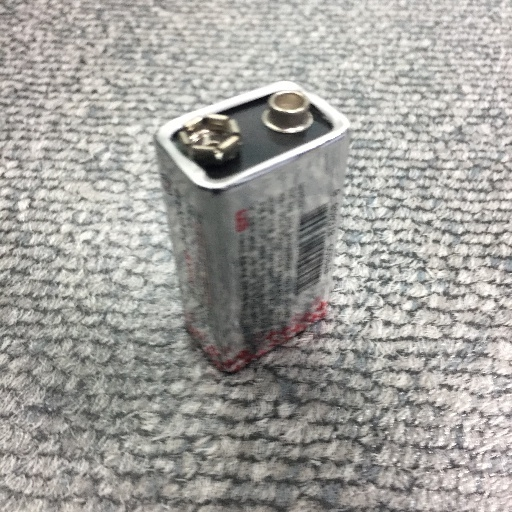Battery_3: (150, 60, 361, 387)
